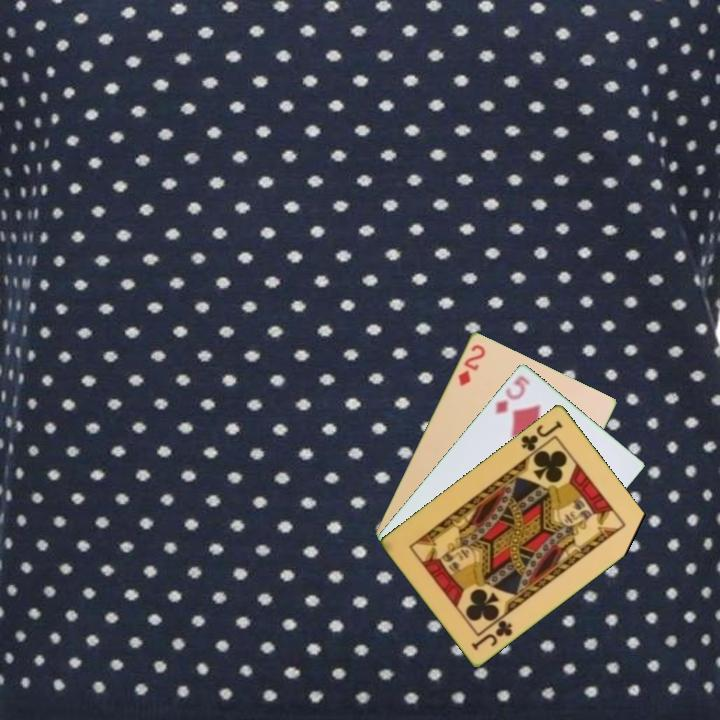2d: (454, 340, 488, 389)
5d: (491, 371, 533, 417)
Jc: (517, 416, 566, 454), (468, 616, 516, 653)
